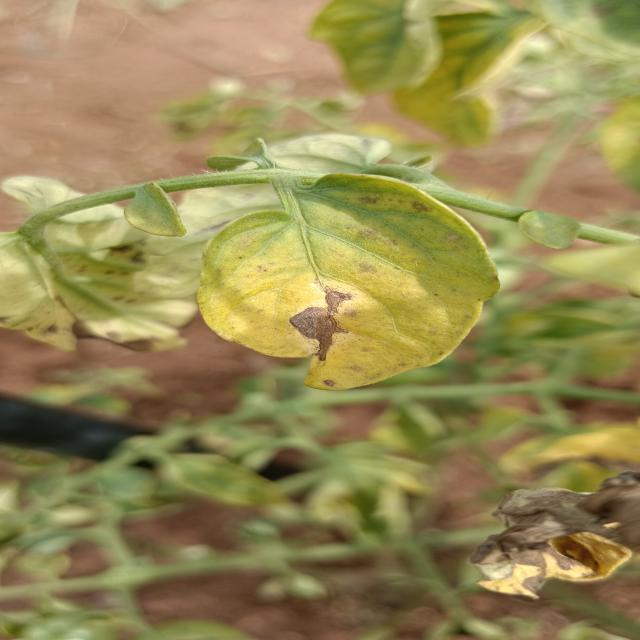tomato_early blight: (196, 168, 495, 388), (0, 206, 232, 360), (481, 466, 640, 597), (308, 0, 457, 88)
